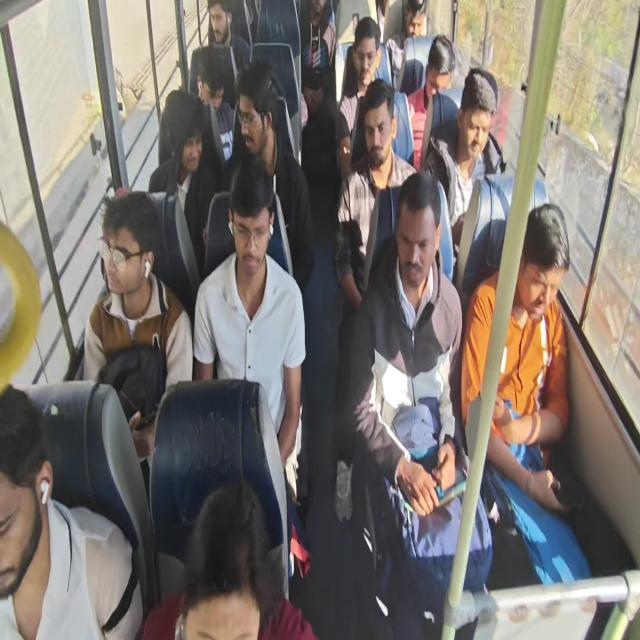person: (192, 481, 273, 640), (0, 410, 52, 594), (92, 206, 164, 323), (515, 214, 563, 335), (390, 190, 437, 288), (163, 96, 208, 198), (225, 190, 269, 283), (234, 73, 272, 161), (458, 79, 494, 169), (360, 85, 399, 165), (194, 58, 232, 114), (424, 42, 454, 107), (351, 36, 380, 91), (205, 5, 236, 52), (402, 3, 431, 44), (302, 0, 328, 22)
